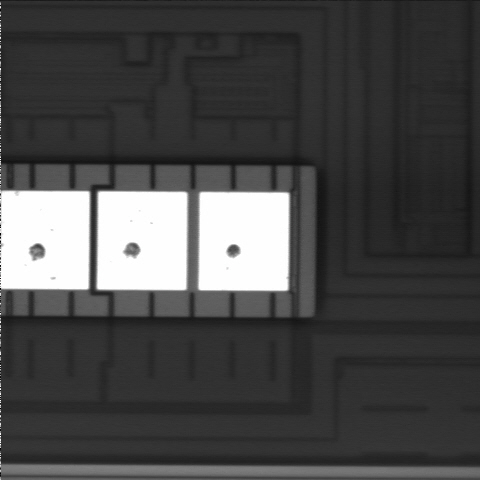pad: (198, 192, 289, 291), (97, 191, 187, 290)
